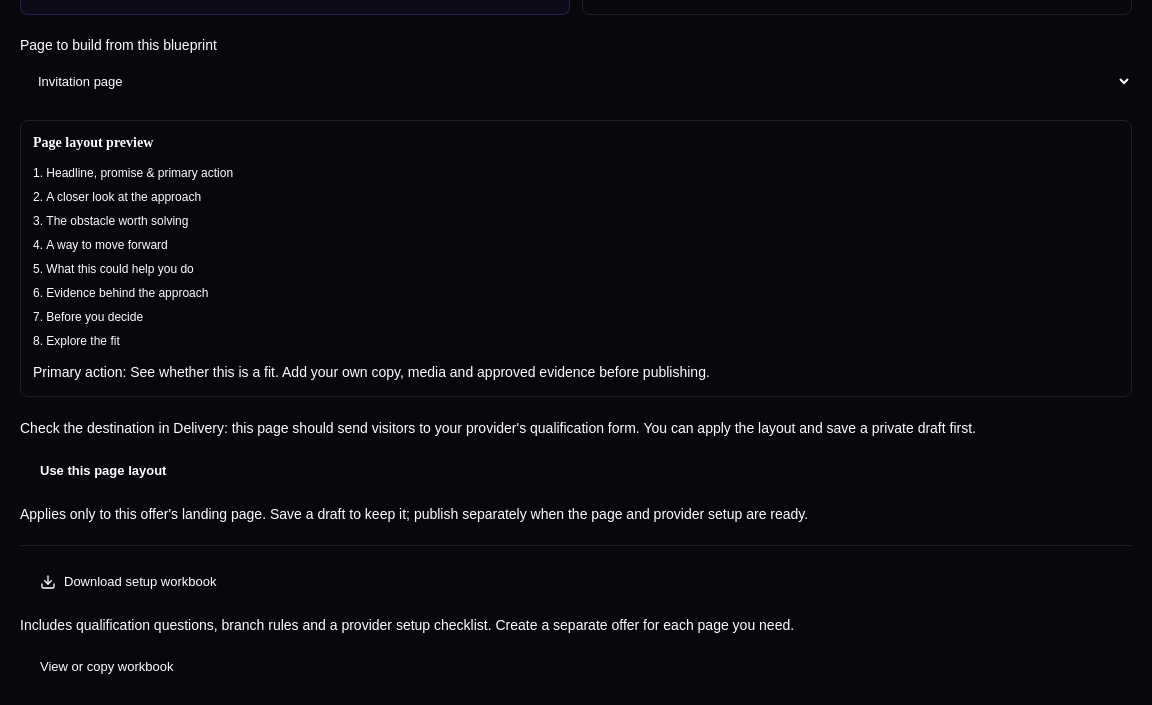
qualified call blueprint picker › offers focused, selectable workbook text when downloads are unavailable
(page scrolled)
Click the button "Download setup workbook".
click(140, 582)  # box 20,562 -> 1132,602
(page scrolled)
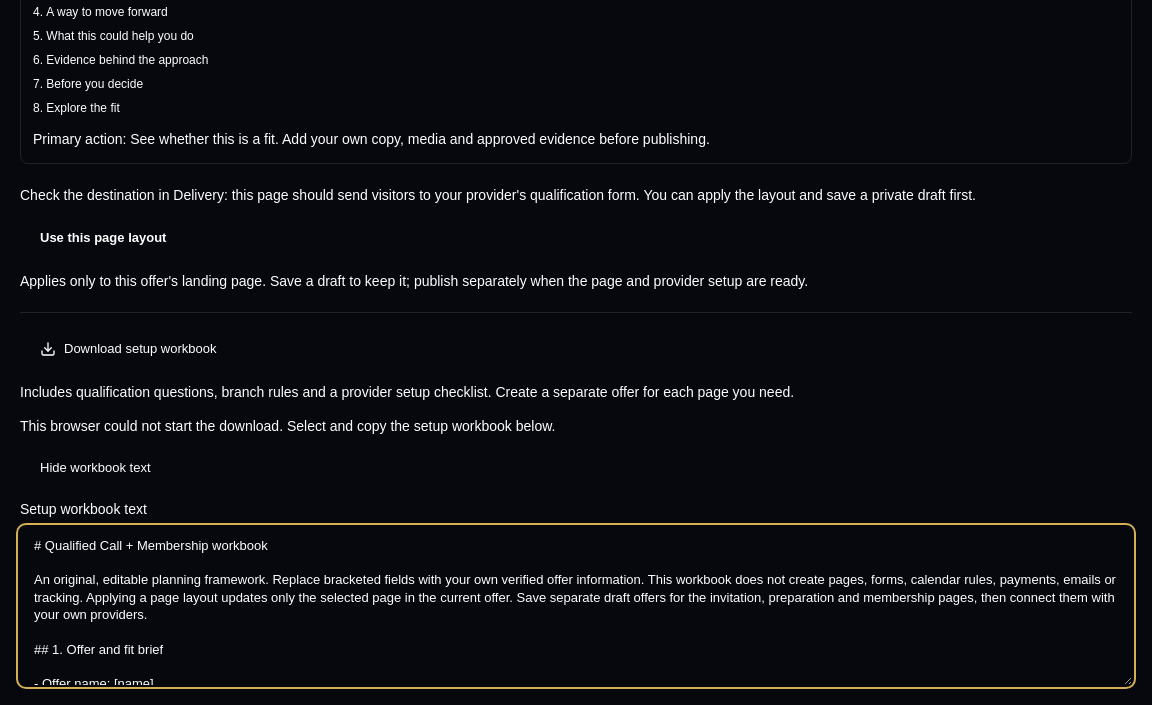
Expected: the message shows "Select and copy", 20,418 -> 555,434
